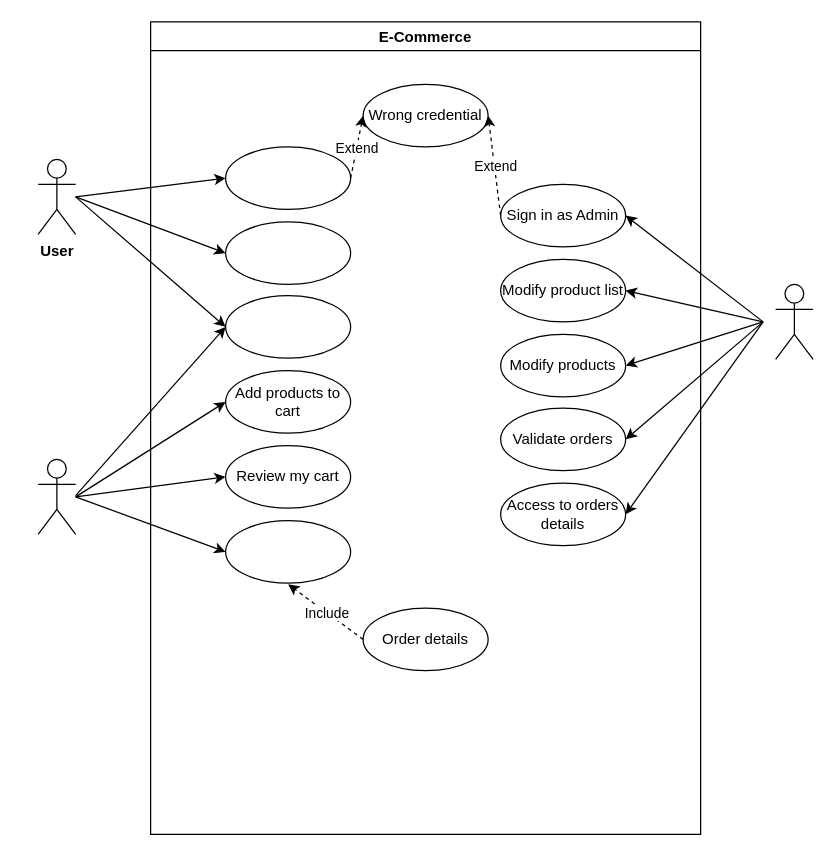
Some shapes in this 836 by 856 pixel diagram are drawn without their labels. Here are the shapes that lost their labels. From the top down, the centre of each, then its label:
At point 287,177: "Create an Account".
At point 287,252: "Sign in".
At point 287,326: "Browse products".
At point 793,321: "Admin".
At point 56,496: "Customer".
At point 287,551: "Make order".
